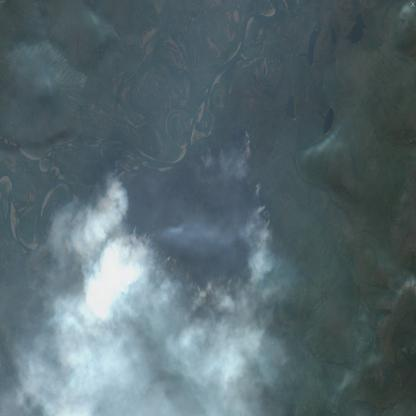fire: (105, 121, 275, 302)
